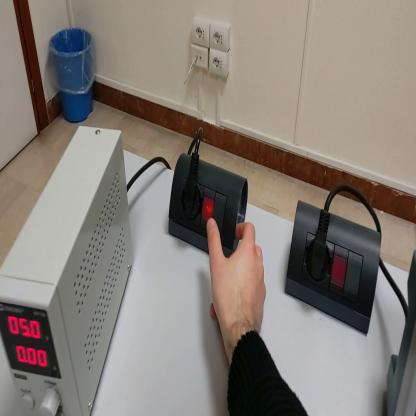hand: (207, 215, 268, 341)
oscilloscope: (386, 249, 416, 415)
power supply: (2, 119, 141, 416)
socket: (287, 202, 384, 331), (168, 155, 249, 260)
